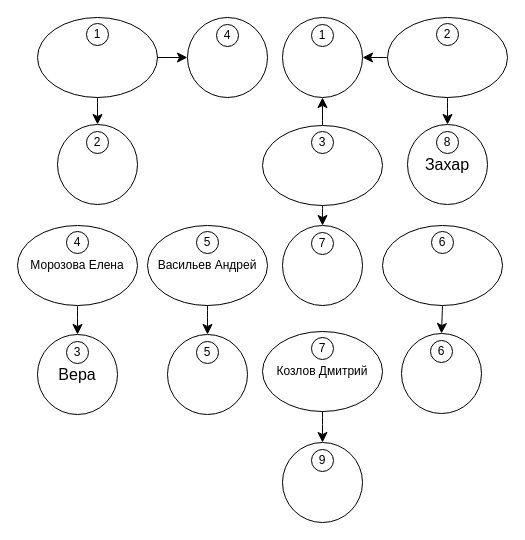
This 525x540 diagram has some shape labels left out. Here are the shapes that lost their labels. From the top down, the box of each, then its label:
(36, 16, 158, 98): Иванов Иван
(186, 16, 268, 98): Глеб
(282, 16, 362, 98): Алиса
(386, 16, 508, 98): Петрова Мария
(56, 124, 138, 204): Борис
(262, 124, 382, 206): Соколов Олег
(282, 224, 362, 306): Жанна
(382, 224, 502, 306): Лебедева Светлана
(166, 334, 248, 414): Дарья
(400, 332, 482, 414): Егор
(282, 442, 362, 522): Ирина
